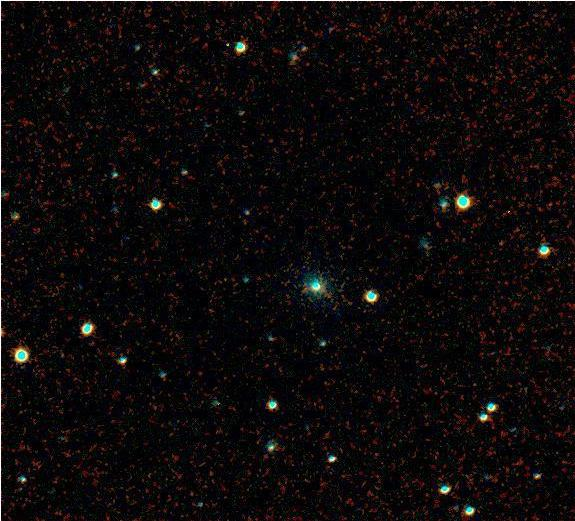star: (491, 224, 521, 254)
